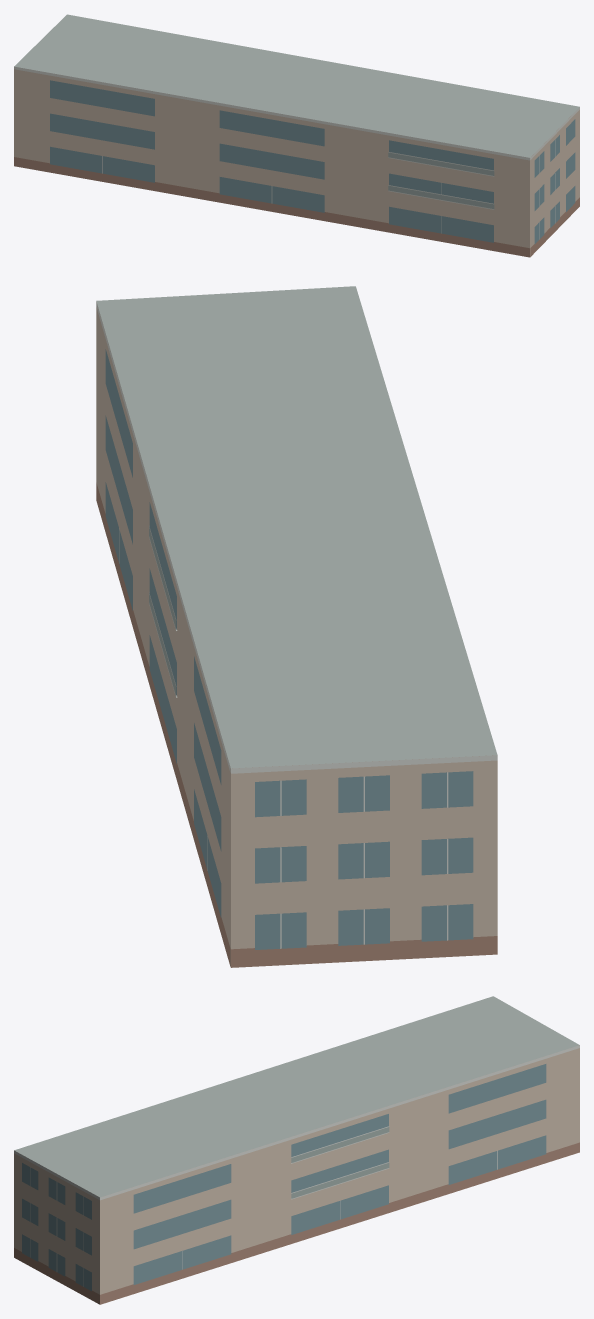
The model's file is survey-upis-32754232.glb.
The picture shows the model from 3 angles, top to bottom: view 1: azimuth 30°, elevation 25°; view 2: azimuth 150°, elevation 25°; view 3: azimuth 270°, elevation 25°; orthographic projection. The views are drawn at different scales.
Parts seen in each view (by area): view 1: survey-upis-32754232.tmp; view 2: survey-upis-32754232.tmp; view 3: survey-upis-32754232.tmp.
Boxes of the visible parts, box(x1,y1,x2,y2) form: survey-upis-32754232.tmp: box(14, 14, 579, 257); survey-upis-32754232.tmp: box(96, 286, 497, 967); survey-upis-32754232.tmp: box(14, 996, 579, 1304).
Bounding box in the file's own units: 36.84 × 9.15 × 43.74.
